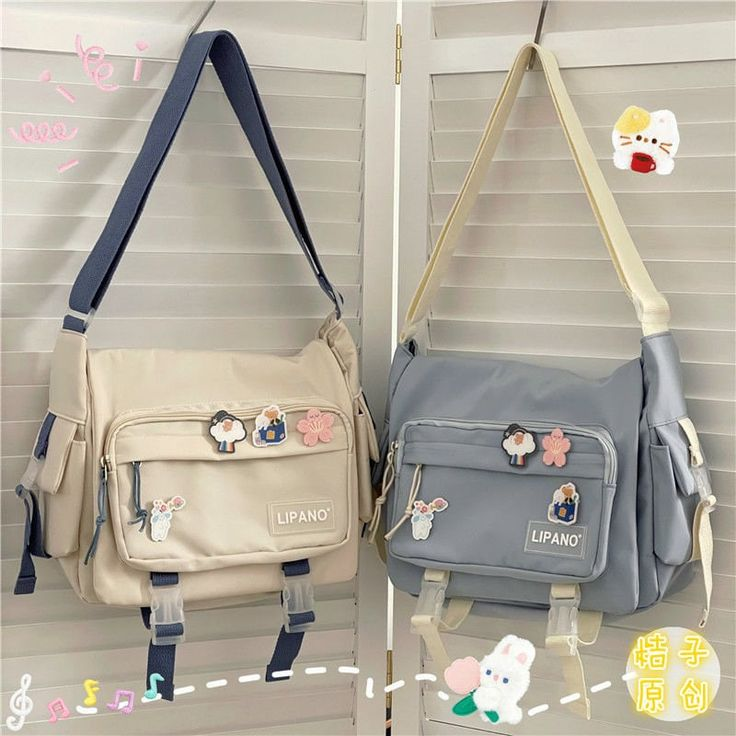nylon: (14, 31, 714, 721)
